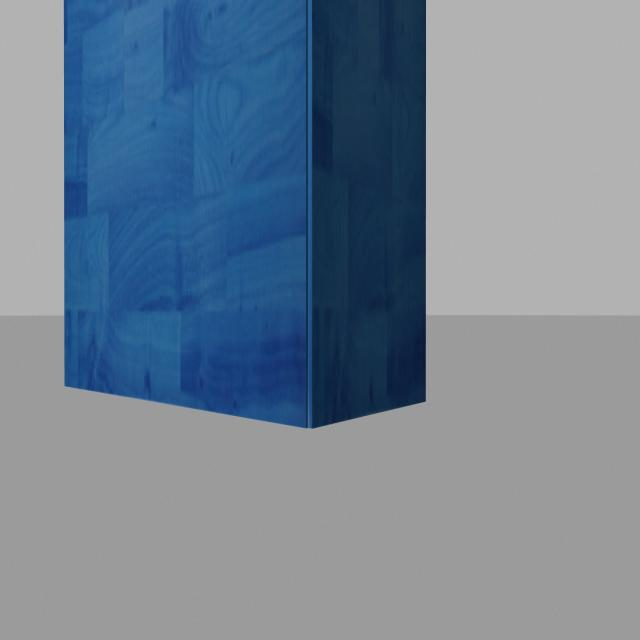shelf: (54, 0, 432, 443)
